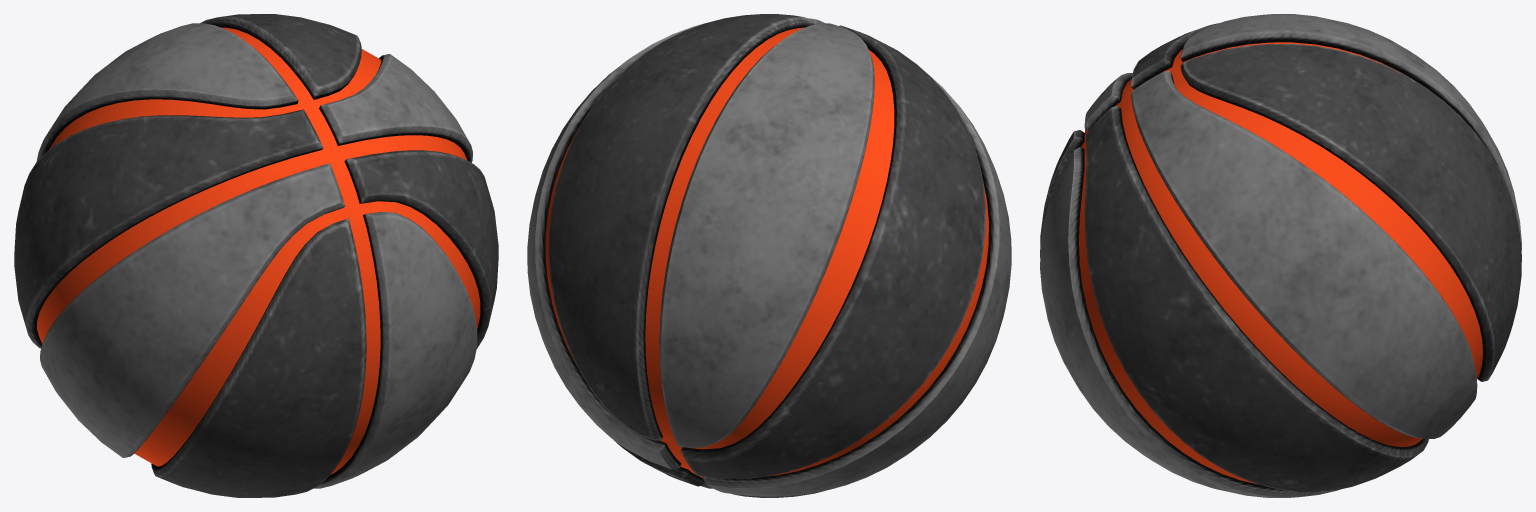
Rendered from basketball.glb.
3 views of the same model, side by side, from view 1: azimuth 30°, elevation 25°; view 2: azimuth 150°, elevation 25°; view 3: azimuth 270°, elevation 25° (orthographic).
Visible parts, largest first — view 1: BBall_Outer_Model_BBall_Outer_Material_0, BBall_Lines_Model_BBall_Lines_Material_0; view 2: BBall_Outer_Model_BBall_Outer_Material_0, BBall_Lines_Model_BBall_Lines_Material_0; view 3: BBall_Outer_Model_BBall_Outer_Material_0, BBall_Lines_Model_BBall_Lines_Material_0.
Part boxes in pixels (x1,y1,x2,y2): BBall_Outer_Model_BBall_Outer_Material_0: [14, 14, 498, 497]; BBall_Lines_Model_BBall_Lines_Material_0: [37, 27, 480, 474]; BBall_Outer_Model_BBall_Outer_Material_0: [527, 14, 1011, 497]; BBall_Lines_Model_BBall_Lines_Material_0: [545, 27, 988, 477]; BBall_Outer_Model_BBall_Outer_Material_0: [1040, 14, 1521, 497]; BBall_Lines_Model_BBall_Lines_Material_0: [1079, 42, 1482, 483].
Size of the model in its own units: 0.6007 by 0.6014 by 0.6018.
2 materials, 1 textured.
